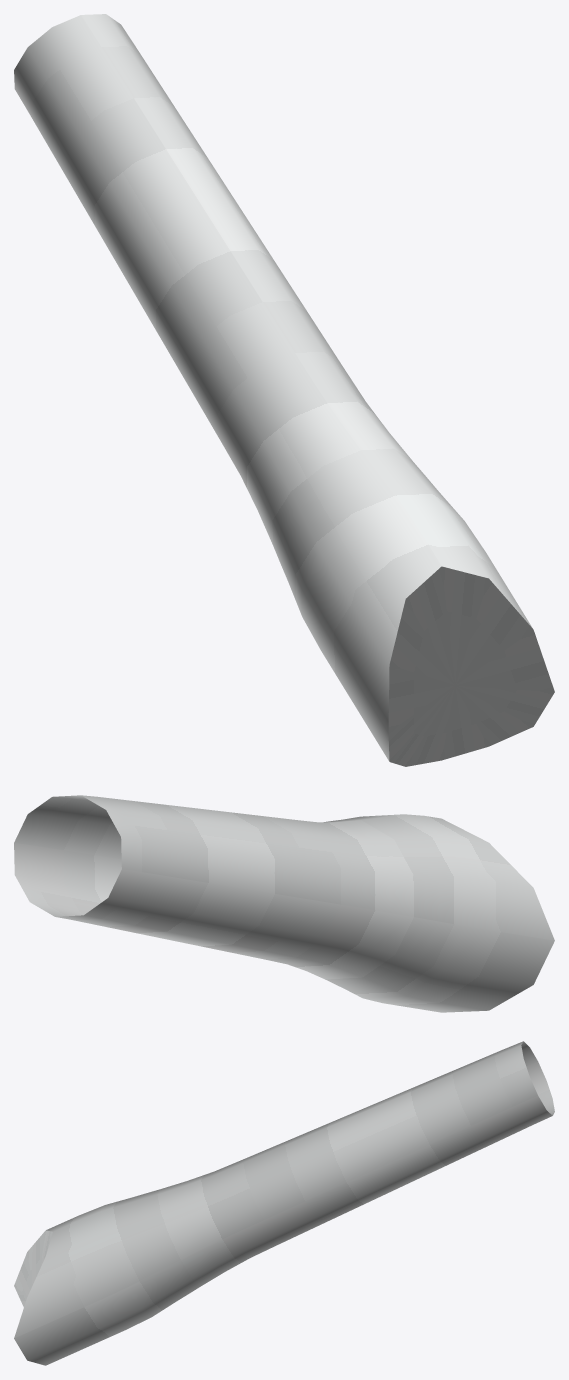
File: luminairearm_caltrans6ftstraightdouble_c0_pedestal.obj
The picture shows the model from 3 angles, top to bottom: view 1: azimuth 30°, elevation 25°; view 2: azimuth 150°, elevation 25°; view 3: azimuth 270°, elevation 25°; orthographic projection. The views are drawn at different scales.
Visible parts, largest first — view 1: luminairearm_caltrans6ftstraightdouble_c0_pedestal; view 2: luminairearm_caltrans6ftstraightdouble_c0_pedestal; view 3: luminairearm_caltrans6ftstraightdouble_c0_pedestal.
Boxes of the visible parts, box(x1,y1,x2,y2) form: luminairearm_caltrans6ftstraightdouble_c0_pedestal: box(14, 14, 554, 766); luminairearm_caltrans6ftstraightdouble_c0_pedestal: box(14, 795, 554, 1012); luminairearm_caltrans6ftstraightdouble_c0_pedestal: box(14, 1041, 554, 1365).
Size of the model in its own units: 0.3375 by 0.9329 by 1.46.
